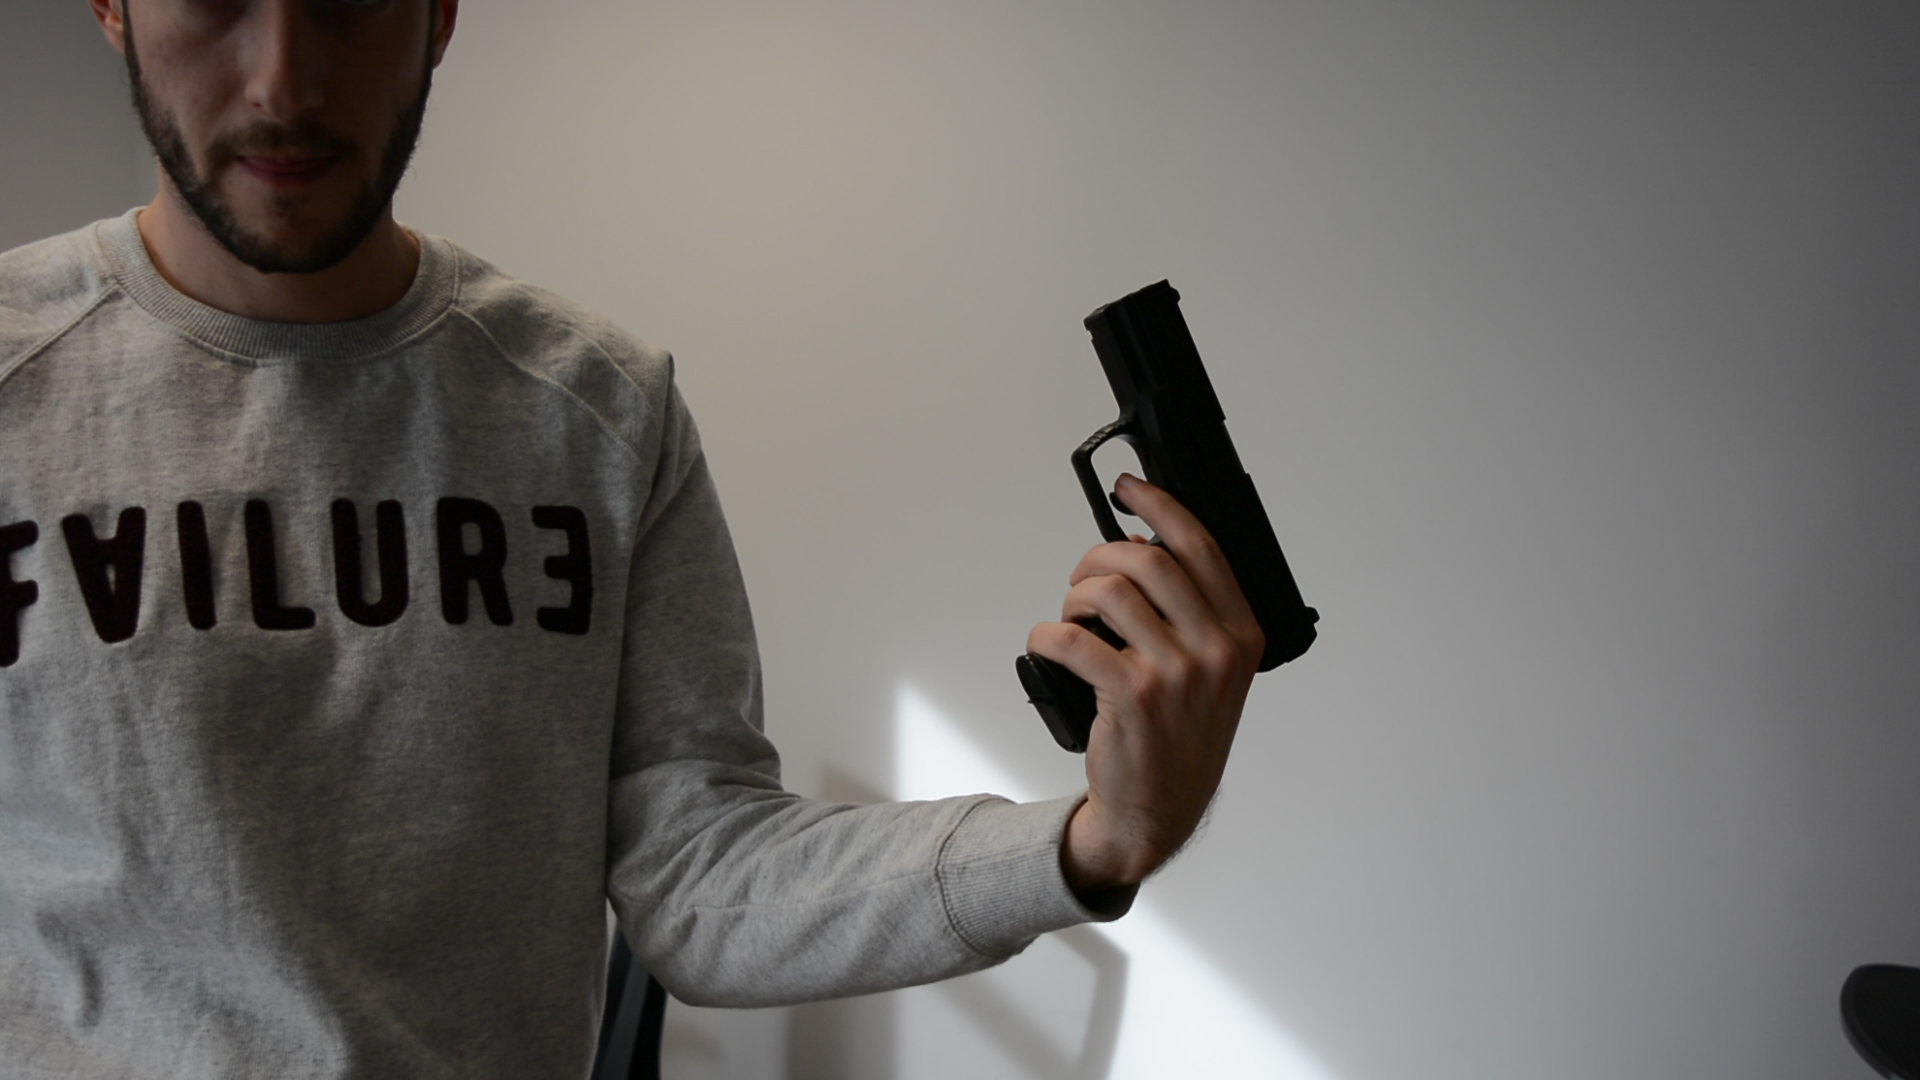pistol: (1011, 276, 1323, 757)
